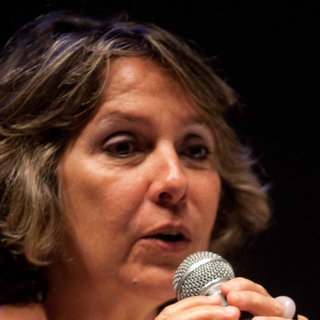eye: (100, 135, 147, 163), (176, 139, 215, 165)
